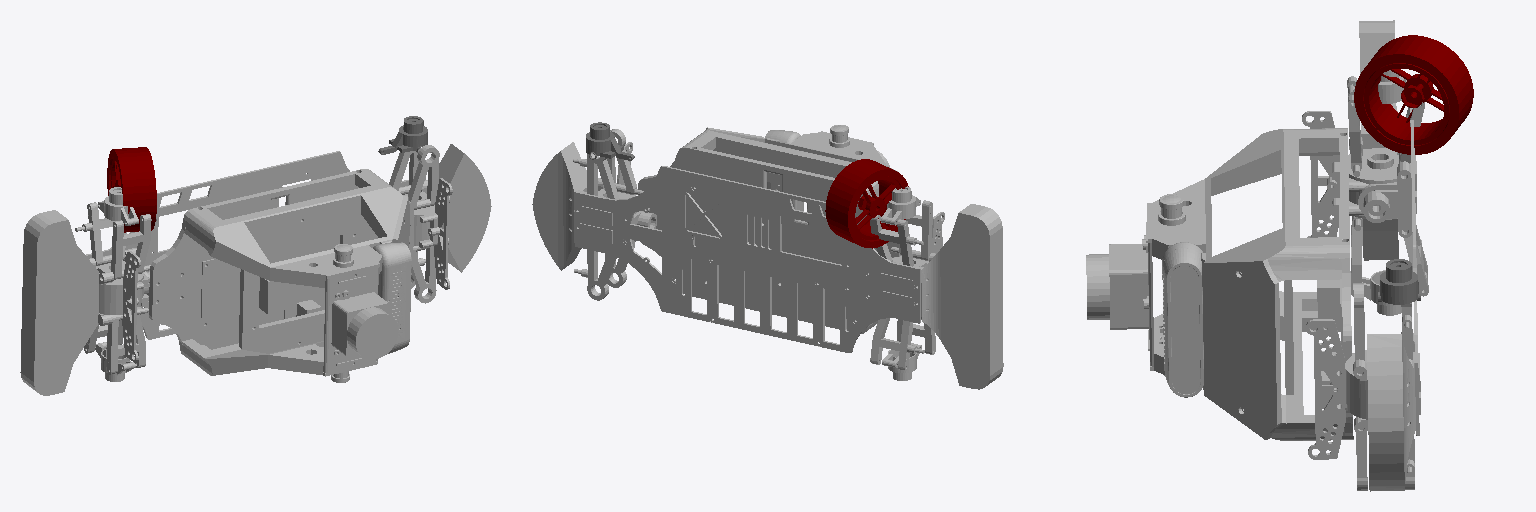
URDF robot description (VehiculoConPrototipo):
<?xml version="1.0" encoding="utf-8"?>
<!-- This URDF was automatically created by SolidWorks to URDF Exporter! Originally created by [author] ([email redacted]) 
     Commit Version: 1.6.0-4-g7f85cfe  Build Version: 1.6.7995.38578
     For more information, please see http://wiki.ros.org/sw_urdf_exporter -->
<robot
  name="VehiculoConPrototipo">
  <link
    name="base_link">
    <inertial>
      <origin
        xyz="-0.15245 0.060912 -0.14077"
        rpy="0 0 0" />
      <mass
        value="0.78715" />
      <inertia
        ixx="0.00062066"
        ixy="1.0251E-05"
        ixz="2.201E-05"
        iyy="0.0014766"
        iyz="-4.8827E-06"
        izz="0.0017778" />
    </inertial>
    <visual>
      <origin
        xyz="0 0 0"
        rpy="0 0 0" />
      <geometry>
        <mesh
          filename="package://VehiculoConPrototipo/meshes/base_link.STL" />
      </geometry>
      <material
        name="">
        <color
          rgba="0.75294 0.75294 0.75294 1" />
      </material>
    </visual>
    <collision>
      <origin
        xyz="0 0 0"
        rpy="0 0 0" />
      <geometry>
        <mesh
          filename="package://VehiculoConPrototipo/meshes/base_link.STL" />
      </geometry>
    </collision>
  </link>
  <link
    name="back_wheel_left">
    <inertial>
      <origin
        xyz="-0.021483 0.008395 0.010078"
        rpy="0 0 0" />
      <mass
        value="0.038543" />
      <inertia
        ixx="1.5832E-05"
        ixy="2.5411E-21"
        ixz="8.2586E-21"
        iyy="1.5832E-05"
        iyz="2.872E-21"
        izz="2.7611E-05" />
    </inertial>
    <visual>
      <origin
        xyz="0 0 0"
        rpy="0 0 0" />
      <geometry>
        <mesh
          filename="package://VehiculoConPrototipo/meshes/back_wheel_left.STL" />
      </geometry>
      <material
        name="">
        <color
          rgba="0.50196 0 0 1" />
      </material>
    </visual>
    <collision>
      <origin
        xyz="0 0 0"
        rpy="0 0 0" />
      <geometry>
        <mesh
          filename="package://VehiculoConPrototipo/meshes/back_wheel_left.STL" />
      </geometry>
    </collision>
  </link>
  <joint
    name="joint_back_wheel_left"
    type="continuous">
    <origin
      xyz="-0.24699 0.18714 0.13117"
      rpy="0.019586 -0.010611 1.2416" />
    <parent
      link="base_link" />
    <child
      link="back_wheel_left" />
    <axis
      xyz="0 1 0" />
    <limit
      effort="100"
      velocity="100" />
    <dynamics
      friction="0.1" />
  </joint>
  <link
    name="back_wheel_right">
    <inertial>
      <origin
        xyz="-0.021483 0.008395 0.010078"
        rpy="0 0 0" />
      <mass
        value="0.038543" />
      <inertia
        ixx="1.5832E-05"
        ixy="0"
        ixz="1.1514E-21"
        iyy="1.5832E-05"
        iyz="-2.8984E-21"
        izz="2.7611E-05" />
    </inertial>
    <visual>
      <origin
        xyz="0 0 0"
        rpy="0 0 0" />
      <geometry>
        <mesh
          filename="package://VehiculoConPrototipo/meshes/back_wheel_right.STL" />
      </geometry>
      <material
        name="">
        <color
          rgba="0.50196 0 0 1" />
      </material>
    </visual>
    <collision>
      <origin
        xyz="0 0 0"
        rpy="0 0 0" />
      <geometry>
        <mesh
          filename="package://VehiculoConPrototipo/meshes/back_wheel_right.STL" />
      </geometry>
    </collision>
  </link>
  <joint
    name="joint_back_wheel_right"
    type="continuous">
    <origin
      xyz="-0.24763 0.18806 -0.0035251"
      rpy="-3.1205 0.0072299 0.41444" />
    <parent
      link="base_link" />
    <child
      link="back_wheel_right" />
    <axis
      xyz="0 1 0" />
    <limit
      effort="100"
      velocity="100" />
    <dynamics
      damping="0.1"
      friction="0.1" />
  </joint>
  <link
    name="front_handle_left">
    <inertial>
      <origin
        xyz="-0.003022 0.0098209 6.2968E-09"
        rpy="0 0 0" />
      <mass
        value="0.0035804" />
      <inertia
        ixx="2.2725E-07"
        ixy="-8.8041E-08"
        ixz="-2.6452E-13"
        iyy="3.3018E-07"
        iyz="7.2923E-14"
        izz="3.6051E-07" />
    </inertial>
    <visual>
      <origin
        xyz="0 0 0"
        rpy="0 0 0" />
      <geometry>
        <mesh
          filename="package://VehiculoConPrototipo/meshes/front_handle_left.STL" />
      </geometry>
      <material
        name="">
        <color
          rgba="0.50196 0.50196 0.50196 1" />
      </material>
    </visual>
    <collision>
      <origin
        xyz="0 0 0"
        rpy="0 0 0" />
      <geometry>
        <mesh
          filename="package://VehiculoConPrototipo/meshes/front_handle_left.STL" />
      </geometry>
    </collision>
  </link>
  <joint
    name="joint_front_handle_left"
    type="revolute">
    <origin
      xyz="-0.0030368 0.16612 0.1163"
      rpy="1.5873 0.014976 0.0079603" />
    <parent
      link="base_link" />
    <child
      link="front_handle_left" />
    <axis
      xyz="0 0 1" />
    <limit
      lower="-0.87267"
      upper="0.87267"
      effort="100"
      velocity="100" />
    <dynamics
      damping="0.1"
      friction="0.1" />
  </joint>
  <link
    name="front_wheel_left">
    <inertial>
      <origin
        xyz="-0.021483 0.008395 0.010078"
        rpy="0 0 0" />
      <mass
        value="0.063174" />
      <inertia
        ixx="3.6075E-05"
        ixy="-1.6941E-20"
        ixz="-2.9726E-20"
        iyy="3.6075E-05"
        iyz="-4.2881E-21"
        izz="6.2912E-05" />
    </inertial>
    <visual>
      <origin
        xyz="0 0 0"
        rpy="0 0 0" />
      <geometry>
        <mesh
          filename="package://VehiculoConPrototipo/meshes/front_wheel_left.STL" />
      </geometry>
      <material
        name="">
        <color
          rgba="0.50196 0 0 1" />
      </material>
    </visual>
    <collision>
      <origin
        xyz="0 0 0"
        rpy="0 0 0" />
      <geometry>
        <mesh
          filename="package://VehiculoConPrototipo/meshes/front_wheel_left.STL" />
      </geometry>
    </collision>
  </link>
  <joint
    name="joint_front_wheel_left"
    type="continuous">
    <origin
      xyz="-0.0072876 0.0099229 -0.021884"
      rpy="1.5708 0.87681 -3.1416" />
    <parent
      link="front_handle_left" />
    <child
      link="front_wheel_left" />
    <axis
      xyz="0 1 0" />
    <limit
      effort="100"
      velocity="100" />
    <dynamics
      friction="0.1" />
  </joint>
  <link
    name="front_handle_right">
    <inertial>
      <origin
        xyz="-0.0030221 0.0098208 9.0743E-09"
        rpy="0 0 0" />
      <mass
        value="0.0035804" />
      <inertia
        ixx="2.2725E-07"
        ixy="-8.8041E-08"
        ixz="-2.8912E-13"
        iyy="3.3018E-07"
        iyz="1.2676E-13"
        izz="3.6051E-07" />
    </inertial>
    <visual>
      <origin
        xyz="0 0 0"
        rpy="0 0 0" />
      <geometry>
        <mesh
          filename="package://VehiculoConPrototipo/meshes/front_handle_right.STL" />
      </geometry>
      <material
        name="">
        <color
          rgba="0.50196 0.50196 0.50196 1" />
      </material>
    </visual>
    <collision>
      <origin
        xyz="0 0 0"
        rpy="0 0 0" />
      <geometry>
        <mesh
          filename="package://VehiculoConPrototipo/meshes/front_handle_right.STL" />
      </geometry>
    </collision>
  </link>
  <joint
    name="joint_front_handle_right"
    type="revolute">
    <origin
      xyz="-0.0047436 0.16797 0.0033231"
      rpy="-1.5543 0.014976 0.0079603" />
    <parent
      link="base_link" />
    <child
      link="front_handle_right" />
    <axis
      xyz="0 0 1" />
    <limit
      lower="-0.87267"
      upper="0.87267"
      effort="100"
      velocity="100" />
    <dynamics
      friction="0.1" />
  </joint>
  <link
    name="front_wheel_right">
    <inertial>
      <origin
        xyz="-0.021483 0.008395 0.010078"
        rpy="0 0 0" />
      <mass
        value="0.063174" />
      <inertia
        ixx="3.6075E-05"
        ixy="-1.8794E-21"
        ixz="9.5539E-23"
        iyy="3.6075E-05"
        iyz="7.4115E-22"
        izz="6.2912E-05" />
    </inertial>
    <visual>
      <origin
        xyz="0 0 0"
        rpy="0 0 0" />
      <geometry>
        <mesh
          filename="package://VehiculoConPrototipo/meshes/front_wheel_right.STL" />
      </geometry>
      <material
        name="">
        <color
          rgba="0.50196 0 0 1" />
      </material>
    </visual>
    <collision>
      <origin
        xyz="0 0 0"
        rpy="0 0 0" />
      <geometry>
        <mesh
          filename="package://VehiculoConPrototipo/meshes/front_wheel_right.STL" />
      </geometry>
    </collision>
  </link>
  <joint
    name="joint_front_wheel_right"
    type="continuous">
    <origin
      xyz="0.021501 0.0099229 0.0083478"
      rpy="-1.5708 0.0021956 0" />
    <parent
      link="front_handle_right" />
    <child
      link="front_wheel_right" />
    <axis
      xyz="0 1 0" />
    <limit
      effort="100"
      velocity="100" />
    <dynamics
      friction="0.1" />
  </joint>
  <link
    name="link">
    <inertial>
      <origin
        xyz="-1.3878E-17 0.01647 -1.3261E-05"
        rpy="0 0 0" />
      <mass
        value="0.064116" />
      <inertia
        ixx="1.3212E-05"
        ixy="1.9852E-22"
        ixz="-1.3461E-21"
        iyy="1.3761E-05"
        iyz="-1.2789E-08"
        izz="1.3258E-05" />
    </inertial>
    <visual>
      <origin
        xyz="0 0 0"
        rpy="0 0 0" />
      <geometry>
        <mesh
          filename="package://VehiculoConPrototipo/meshes/link.STL" />
      </geometry>
      <material
        name="">
        <color
          rgba="0 0 0 1" />
      </material>
    </visual>
    <collision>
      <origin
        xyz="0 0 0"
        rpy="0 0 0" />
      <geometry>
        <mesh
          filename="package://VehiculoConPrototipo/meshes/link.STL" />
      </geometry>
    </collision>
  </link>
  <joint
    name="joint_link"
    type="fixed">
    <origin
      xyz="-0.13181 0.035044 0.05949"
      rpy="-2.3257 -1.5481 -0.80809" />
    <parent
      link="base_link" />
    <child
      link="link" />
    <axis
      xyz="0 0 0" />
  </joint>
  <link
    name="depth_camera">
    <inertial>
      <origin
        xyz="2.7135E-07 0.00767 -4.8129E-05"
        rpy="0 0 0" />
      <mass
        value="0.048199" />
      <inertia
        ixx="3.3505E-06"
        ixy="4.2604E-07"
        ixz="-2.2343E-09"
        iyy="2.7389E-05"
        iyz="7.5486E-09"
        izz="2.665E-05" />
    </inertial>
    <visual>
      <origin
        xyz="0 0 0"
        rpy="0 0 0" />
      <geometry>
        <mesh
          filename="package://VehiculoConPrototipo/meshes/depth_camera.STL" />
      </geometry>
      <material
        name="">
        <color
          rgba="0.79216 0.81961 0.93333 1" />
      </material>
    </visual>
    <collision>
      <origin
        xyz="0 0 0"
        rpy="0 0 0" />
      <geometry>
        <mesh
          filename="package://VehiculoConPrototipo/meshes/depth_camera.STL" />
      </geometry>
    </collision>
  </link>
  <joint
    name="joint_depth_camera"
    type="fixed">
    <origin
      xyz="-0.10108 0.055894 0.059402"
      rpy="-2.4044 1.5485 2.3158" />
    <parent
      link="base_link" />
    <child
      link="depth_camera" />
    <axis
      xyz="0 0 0" />
  </joint>
  <link
    name="camera_left">
    <inertial>
      <origin
        xyz="1.3517E-07 -0.00025619 0.0067093"
        rpy="0 0 0" />
      <mass
        value="0.0050148" />
      <inertia
        ixx="3.1349E-07"
        ixy="3.05E-12"
        ixz="-9.2173E-12"
        iyy="3.4979E-07"
        iyz="-3.6215E-11"
        izz="2.6383E-07" />
    </inertial>
    <visual>
      <origin
        xyz="0 0 0"
        rpy="0 0 0" />
      <geometry>
        <mesh
          filename="package://VehiculoConPrototipo/meshes/camera_left.STL" />
      </geometry>
      <material
        name="">
        <color
          rgba="0.25098 0.25098 0.25098 1" />
      </material>
    </visual>
    <collision>
      <origin
        xyz="0 0 0"
        rpy="0 0 0" />
      <geometry>
        <mesh
          filename="package://VehiculoConPrototipo/meshes/camera_left.STL" />
      </geometry>
    </collision>
  </link>
  <joint
    name="joint_camera_left"
    type="fixed">
    <origin
      xyz="-0.13803 0.048531 0.087791"
      rpy="-0.016497 -0.014976 -3.1336" />
    <parent
      link="base_link" />
    <child
      link="camera_left" />
    <axis
      xyz="0 0 0" />
  </joint>
  <link
    name="camera_right">
    <inertial>
      <origin
        xyz="1.361E-07 -0.00025619 0.0067093"
        rpy="0 0 0" />
      <mass
        value="0.0050148" />
      <inertia
        ixx="3.1349E-07"
        ixy="3.0256E-12"
        ixz="-9.2702E-12"
        iyy="3.4979E-07"
        iyz="-3.6066E-11"
        izz="2.6383E-07" />
    </inertial>
    <visual>
      <origin
        xyz="0 0 0"
        rpy="0 0 0" />
      <geometry>
        <mesh
          filename="package://VehiculoConPrototipo/meshes/camera_right.STL" />
      </geometry>
      <material
        name="">
        <color
          rgba="0.25098 0.25098 0.25098 1" />
      </material>
    </visual>
    <collision>
      <origin
        xyz="0 0 0"
        rpy="0 0 0" />
      <geometry>
        <mesh
          filename="package://VehiculoConPrototipo/meshes/camera_right.STL" />
      </geometry>
    </collision>
  </link>
  <joint
    name="joint_camera_right"
    type="fixed">
    <origin
      xyz="-0.13887 0.049445 0.032025"
      rpy="-3.1251 0.014976 0.0079603" />
    <parent
      link="base_link" />
    <child
      link="camera_right" />
    <axis
      xyz="0 0 0" />
  </joint>
</robot>

--- Render facts (derived) ---
The picture shows the robot from 3 angles, left to right: view 1: azimuth 30°, elevation 25°; view 2: azimuth 150°, elevation 25°; view 3: azimuth 270°, elevation 25°; orthographic projection.
Model VehiculoConPrototipo with 11 links and 10 joints (2 revolute, 4 continuous, 4 fixed), rooted at base_link, posed every joint at zero.
Links seen in each view (by area): view 1: base_link, back_wheel_left, front_handle_left; view 2: base_link, back_wheel_left, front_handle_left; view 3: base_link, back_wheel_left, front_handle_left.
Boxes of the visible links, <box> form: base_link: <box>20,144,491,395</box>; back_wheel_left: <box>107,147,156,232</box>; front_handle_left: <box>378,116,427,154</box>; base_link: <box>532,125,1003,389</box>; back_wheel_left: <box>825,159,908,248</box>; front_handle_left: <box>586,122,634,160</box>; base_link: <box>1086,20,1428,491</box>; back_wheel_left: <box>1354,35,1473,154</box>; front_handle_left: <box>1378,259,1420,304</box>.
Size in the robot's own frame: 0.398 by 0.2196 by 0.1766 metres.
Meshes: 11 distinct files referenced, 3 mesh visuals loaded (3 binary STL); not drawn: 8 (reference not matched to a file when rendering).